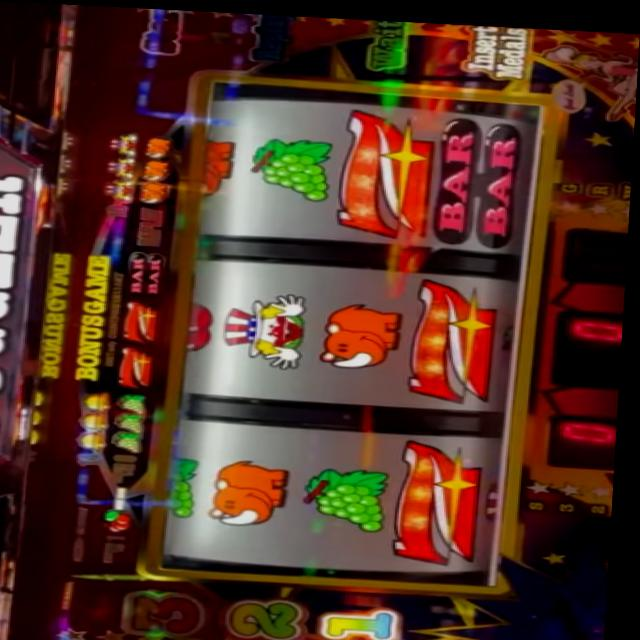bar: (433, 112, 518, 242), (131, 249, 169, 293)
bell: (82, 409, 115, 430), (82, 428, 114, 449), (90, 390, 119, 409)
cherry: (190, 297, 218, 350), (108, 507, 140, 531)
clown: (226, 287, 318, 366), (108, 129, 143, 155), (106, 176, 141, 200), (108, 155, 141, 177)
display: (162, 83, 549, 582)
elephant: (321, 298, 404, 367), (213, 456, 295, 525), (202, 135, 237, 196), (143, 180, 172, 203), (147, 135, 172, 156), (146, 158, 169, 179)
grape: (248, 133, 339, 197), (309, 462, 394, 529), (174, 454, 204, 517), (116, 431, 150, 452), (120, 391, 153, 412), (120, 411, 150, 432)
z: (342, 106, 436, 233), (411, 273, 507, 397), (398, 438, 488, 559), (122, 345, 158, 387), (126, 301, 160, 339)
